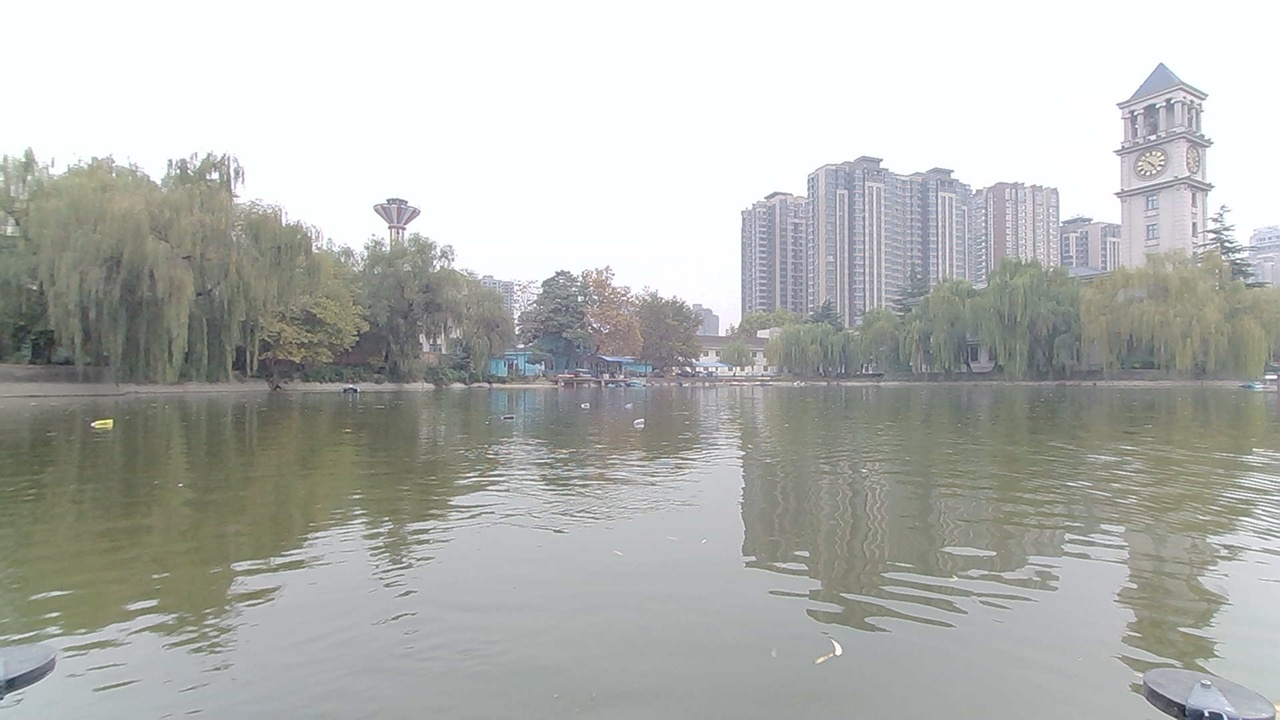bottle: (84, 412, 126, 436), (499, 405, 529, 427), (623, 412, 653, 433), (613, 402, 646, 419), (578, 398, 600, 417)
